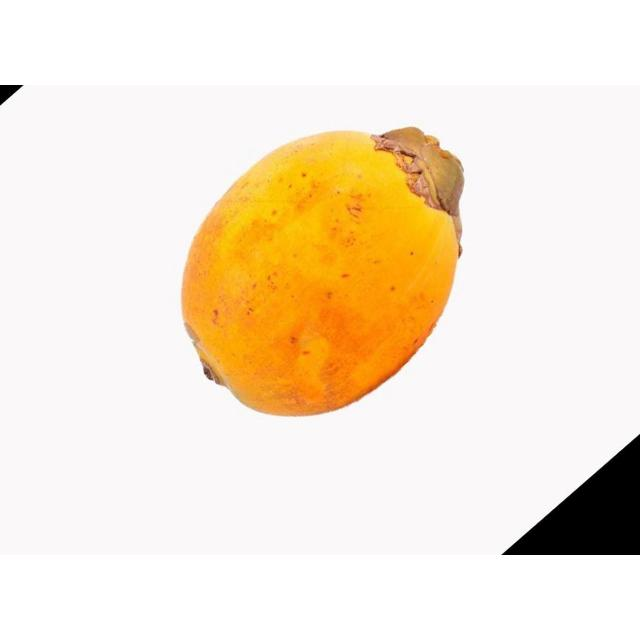good: (179, 127, 464, 420)
